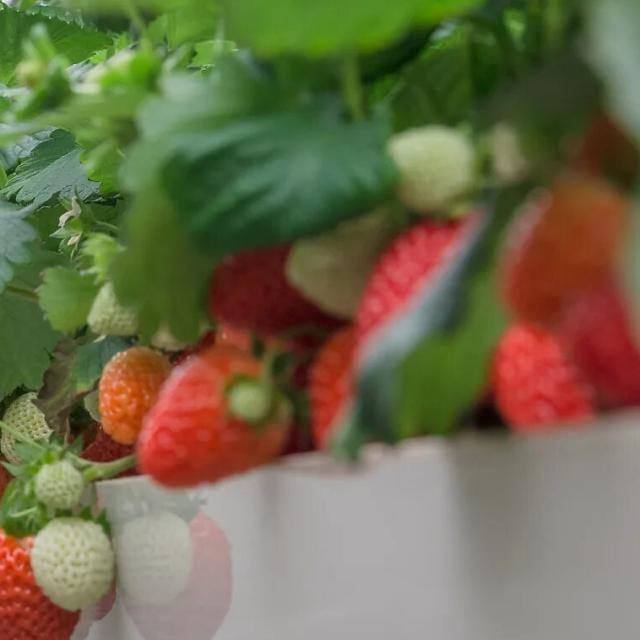Ripe Strawberry: (135, 344, 293, 486), (489, 288, 640, 430), (358, 222, 464, 335), (209, 252, 342, 332), (0, 531, 80, 640), (85, 426, 139, 477)
